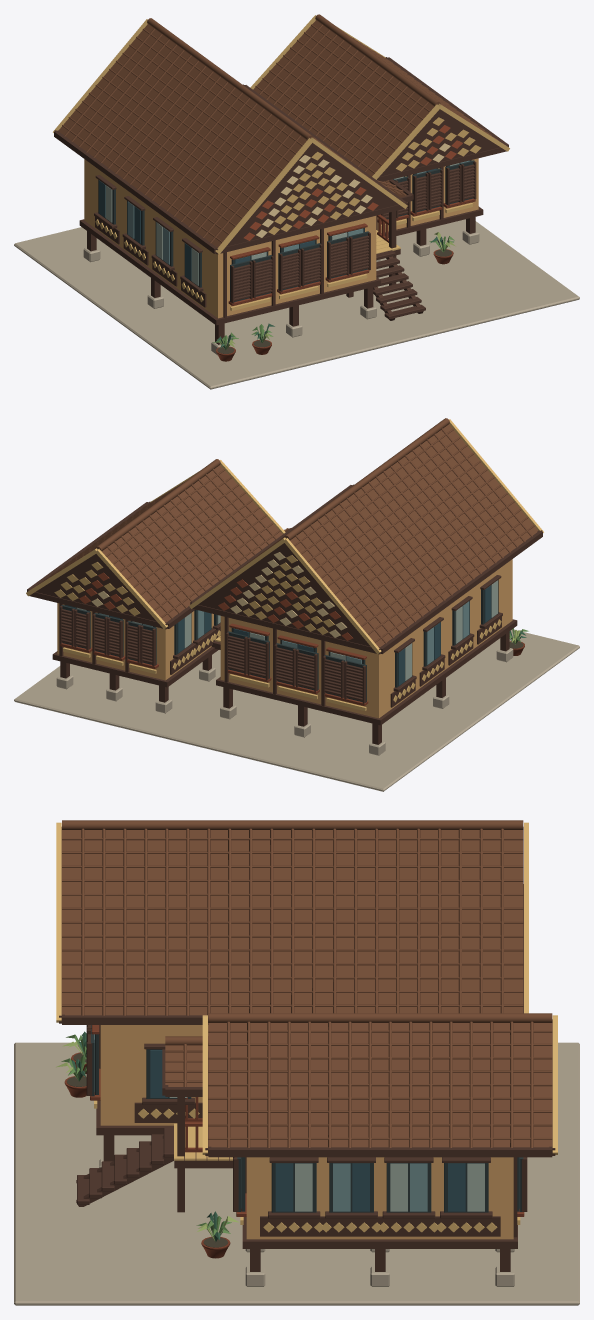
3 renders of one model, top to bottom at view 1: azimuth 30°, elevation 25°; view 2: azimuth 150°, elevation 25°; view 3: azimuth 270°, elevation 25°, orthographic. The views are drawn at different scales.
Visible parts, largest first — view 1: Mortised hardwood frame, Roof covering, Woven tebar layar, Louvred shutters, Casements and sills, Eave fascia, Link verandah and treads, Glazed planters, Pandan planting; view 2: Mortised hardwood frame, Roof covering, Woven tebar layar, Louvred shutters, Casements and sills, Eave fascia; view 3: Roof covering, Mortised hardwood frame, Casements and sills, Eave fascia, Link verandah and treads, Woven tebar layar, Louvred shutters, Pandan planting, Glazed planters.
Boxes of the visible parts, x1=… form: Mortised hardwood frame: x1=14, y1=158, x2=579, y2=389; Roof covering: x1=59, y1=14, x2=498, y2=247; Woven tebar layar: x1=53, y1=15, x2=509, y2=254; Louvred shutters: x1=230, y1=160, x2=476, y2=303; Casements and sills: x1=94, y1=160, x2=475, y2=305; Eave fascia: x1=54, y1=57, x2=508, y2=254; Link verandah and treads: x1=373, y1=230, x2=425, y2=320; Glazed planters: x1=216, y1=249, x2=453, y2=361; Pandan planting: x1=213, y1=232, x2=455, y2=349; Mortised hardwood frame: x1=14, y1=559, x2=579, y2=791; Roof covering: x1=37, y1=418, x2=537, y2=647; Woven tebar layar: x1=26, y1=419, x2=543, y2=654; Louvred shutters: x1=59, y1=605, x2=366, y2=703; Casements and sills: x1=60, y1=575, x2=502, y2=705; Eave fascia: x1=27, y1=484, x2=542, y2=654; Roof covering: x1=62, y1=820, x2=552, y2=1147; Mortised hardwood frame: x1=14, y1=1025, x2=579, y2=1305; Casements and sills: x1=90, y1=1025, x2=524, y2=1218; Eave fascia: x1=59, y1=884, x2=555, y2=1157; Link verandah and treads: x1=76, y1=1123, x2=232, y2=1206; Woven tebar layar: x1=56, y1=822, x2=557, y2=1154; Louvred shutters: x1=86, y1=1025, x2=527, y2=1211; Pandan planting: x1=56, y1=1031, x2=239, y2=1241; Glazed planters: x1=64, y1=1052, x2=230, y2=1258.
Bounding box in the file's own units: 14.4 × 7.94 × 13.25.
